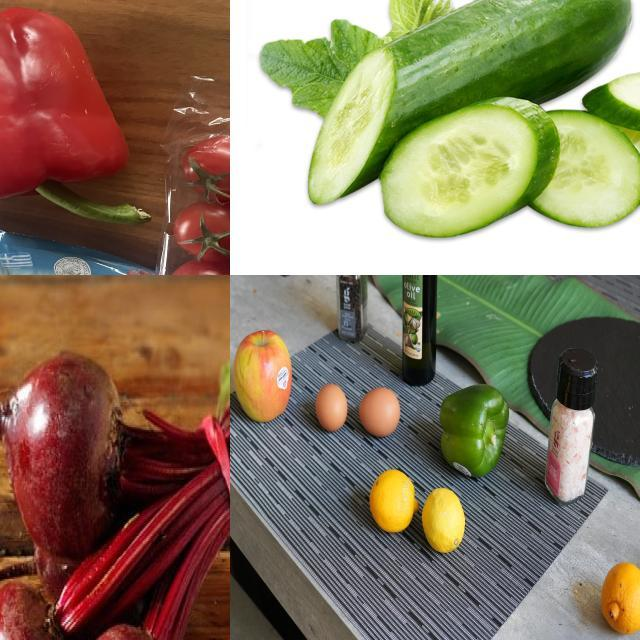beet: (1, 349, 129, 560), (1, 585, 77, 640)
bell_pepper: (435, 382, 515, 482), (334, 276, 372, 341)
cucumber: (303, 1, 640, 210)
egg: (360, 383, 406, 444), (315, 382, 350, 436)
